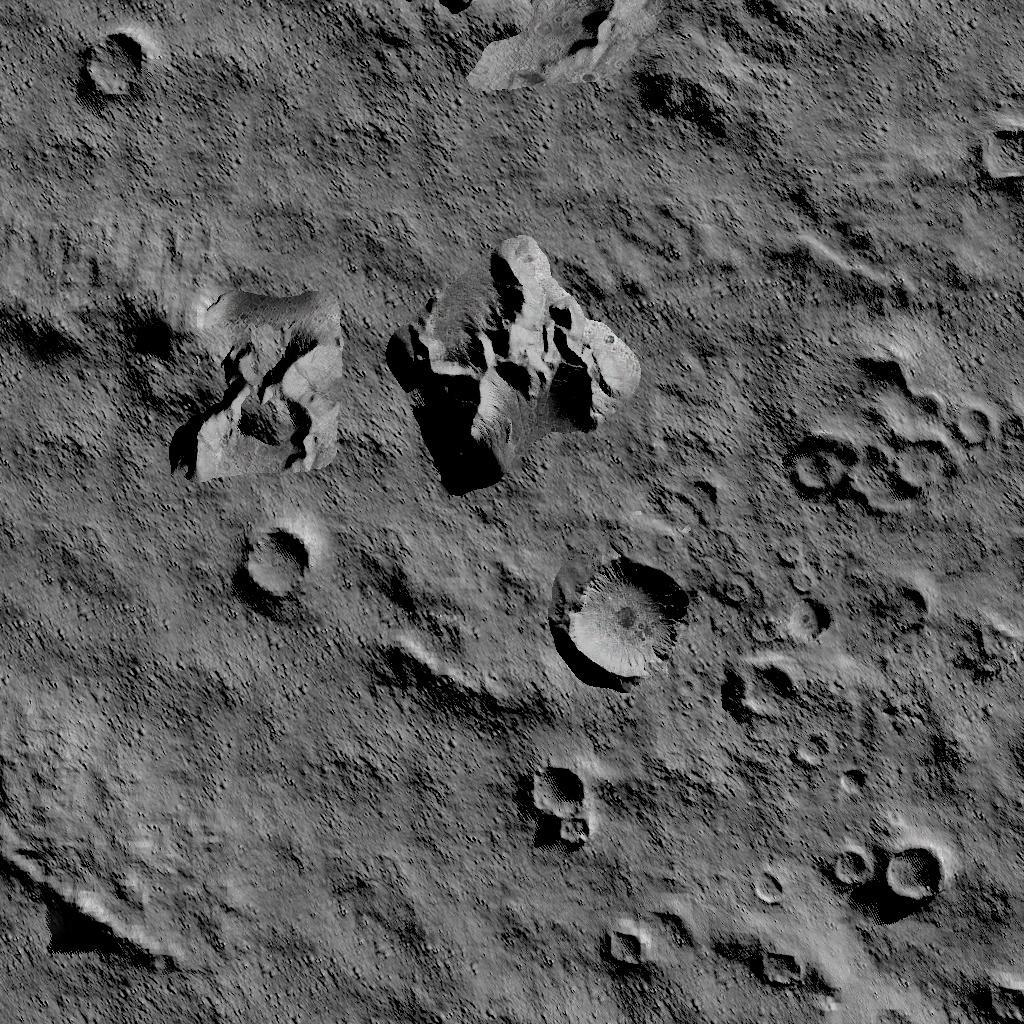Boulders: (383, 230, 645, 494), (159, 284, 344, 486), (407, 0, 669, 97)
Crater: (787, 356, 989, 510), (555, 550, 693, 686), (822, 844, 944, 904), (235, 522, 312, 602), (523, 760, 592, 848), (79, 28, 155, 106), (721, 658, 802, 722), (972, 116, 1024, 188), (971, 968, 1024, 1024), (755, 942, 808, 988), (785, 600, 834, 644), (599, 926, 650, 968), (745, 864, 788, 904), (795, 732, 831, 762), (835, 766, 872, 794)
Plan surface: (3, 612, 391, 854), (189, 868, 589, 1024), (3, 116, 368, 272), (1, 372, 151, 601)
